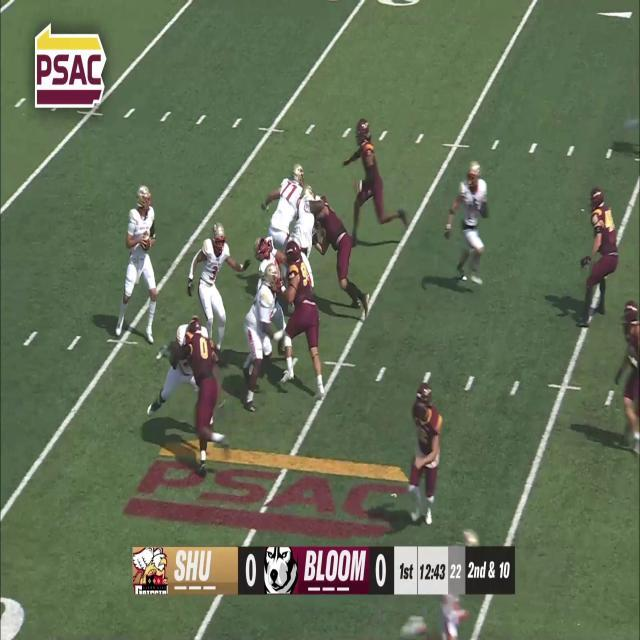football: (142, 230, 150, 250)
